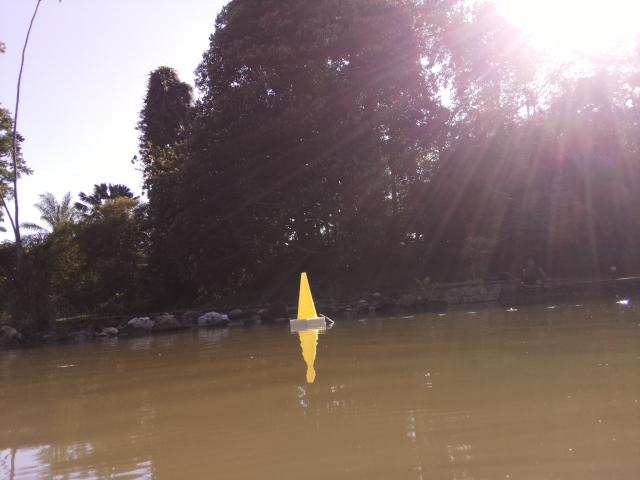checkpoint: (290, 270, 327, 331)
